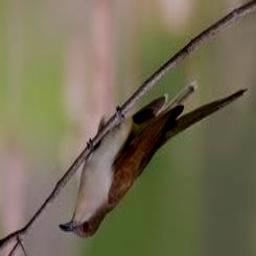Cuckoo: (59, 81, 249, 238)
